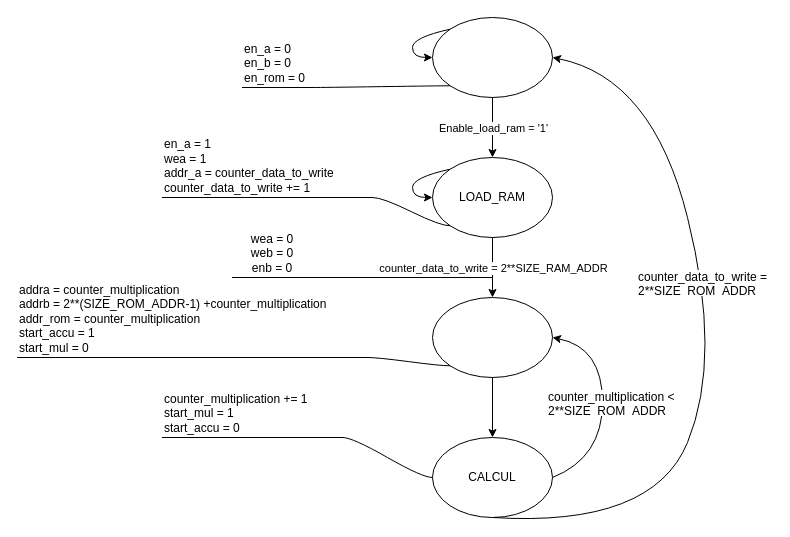
Some shapes in this 790 by 537 pixel diagram are drawn without their labels. Here are the shapes that lost their labels. From the top down, the box of each, then its label:
(432, 16, 552, 98): IDLE
(432, 296, 552, 378): CONFIG_CALCUL
